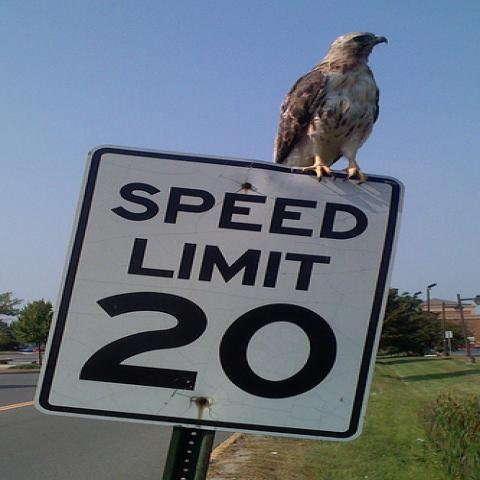car: (18, 346, 37, 352)
